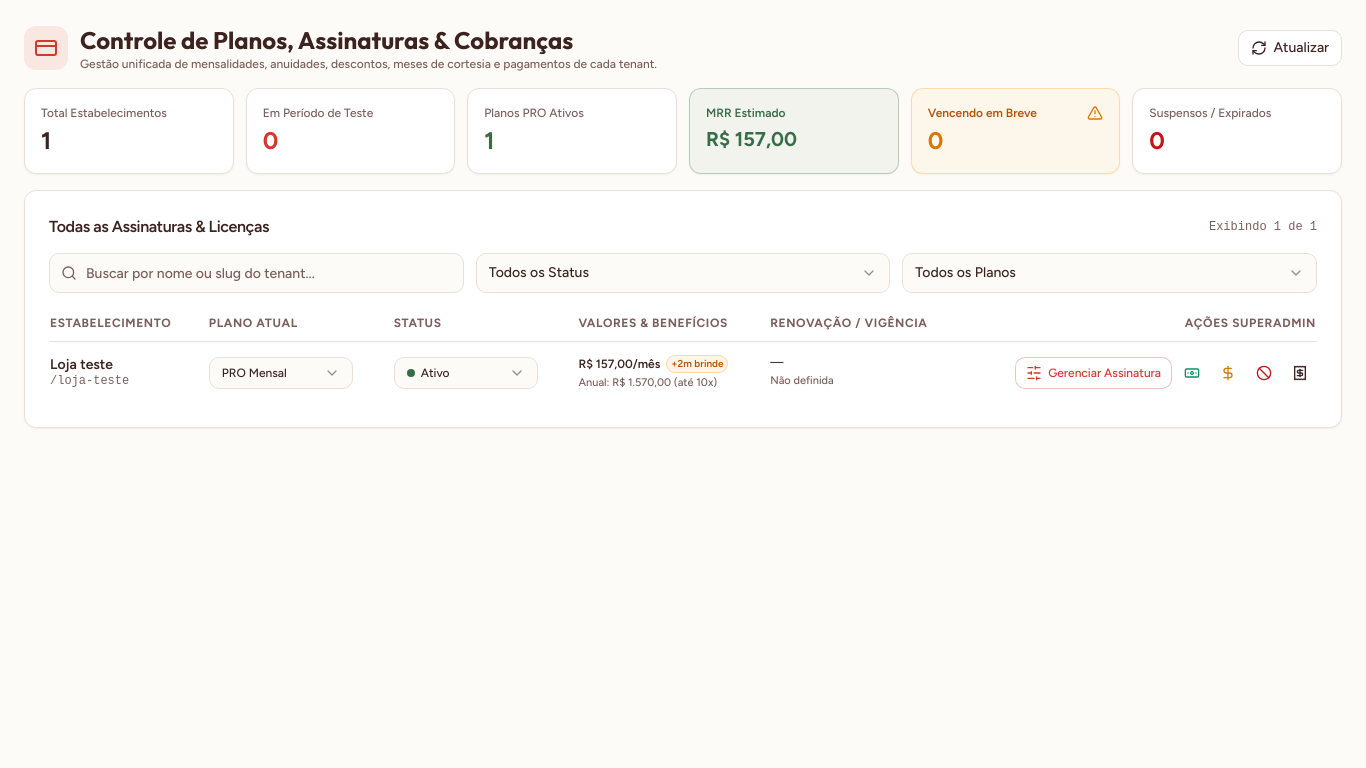
it: plan payment data › opens billing history with provider object data without throwing
The width and height of the screenshot is (1366, 768).
Expected: the text "Loja teste" is shown, [50,356,113,373]
Step 1. Click the button "Gerenciar Assinatura" → coordinates (1094, 372), box [1015,356,1172,388]
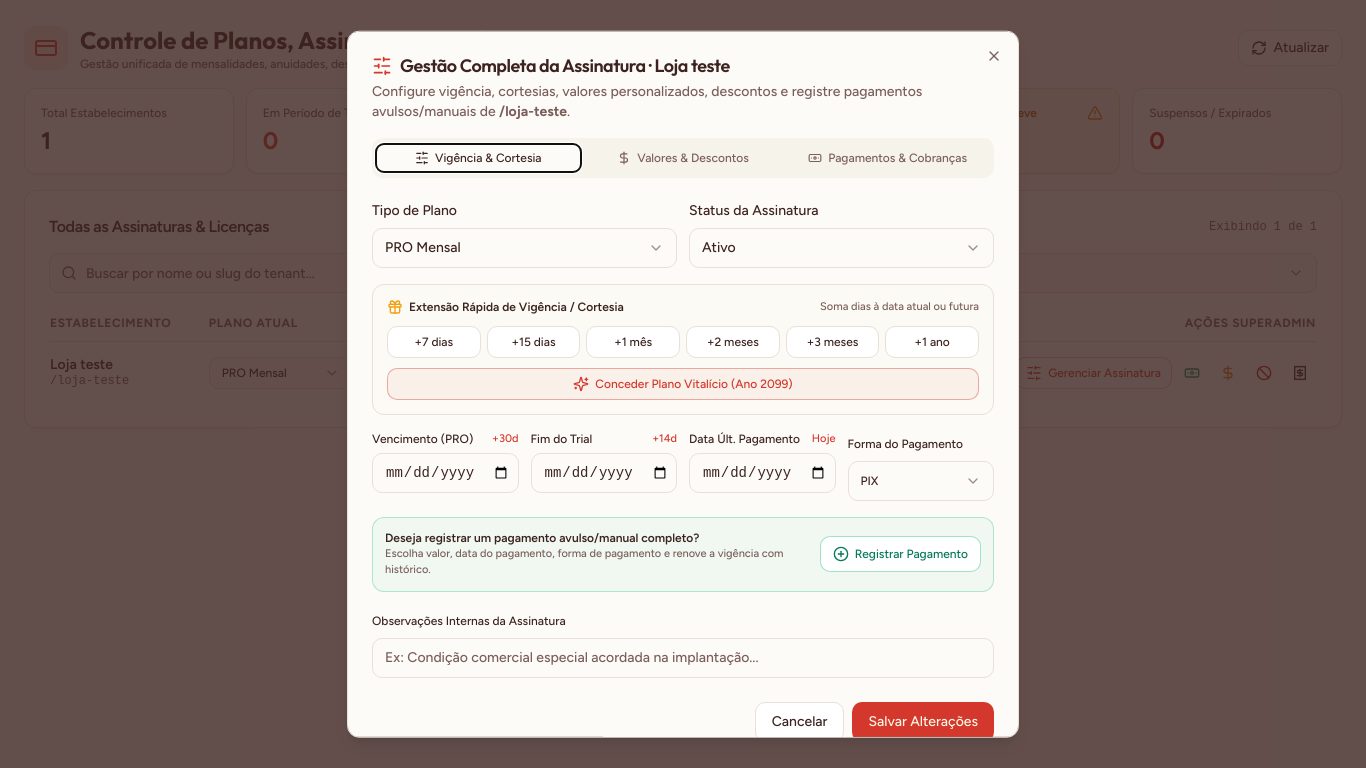
Step 2. Press the mouse on the tab "Pagamentos & Cobranças" → coordinates (888, 158), box [785,144,990,172]
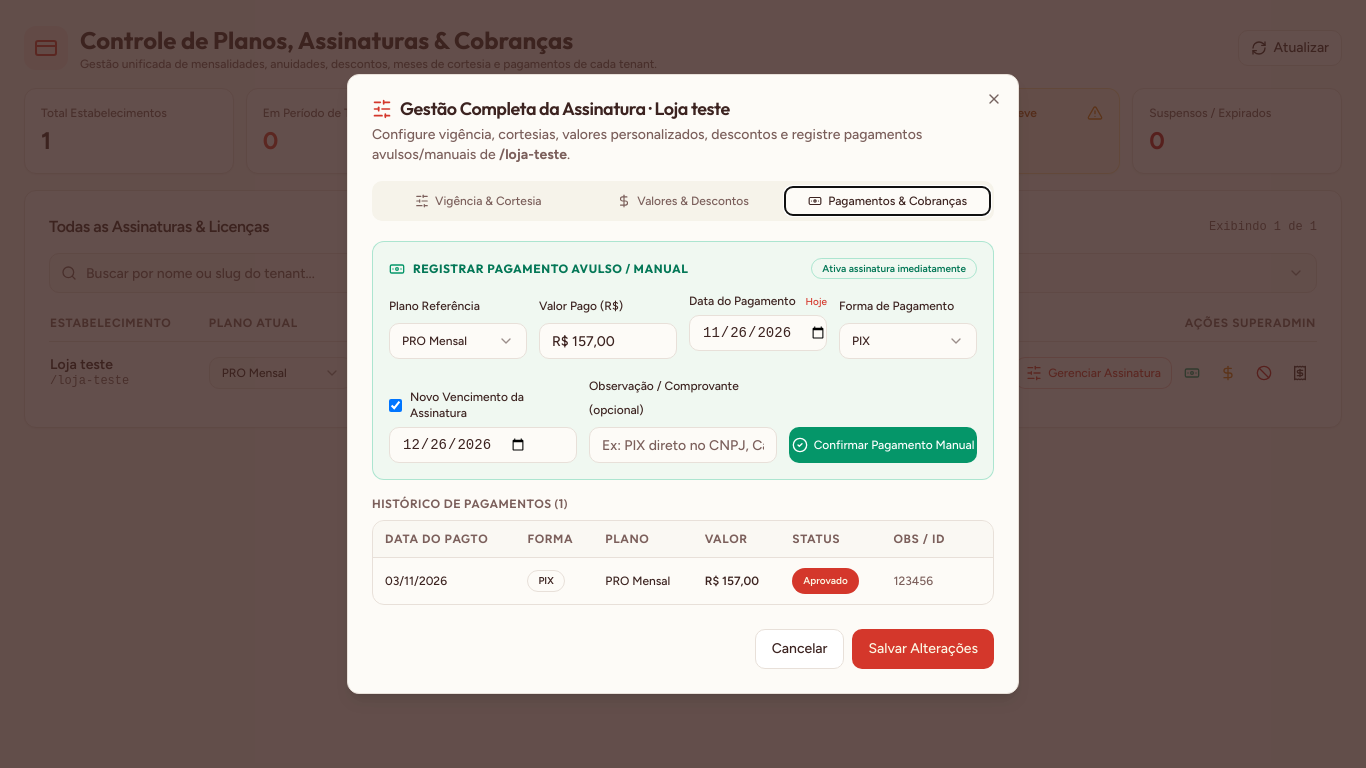
Expected: the text "PIX" next to "03/11/2026" is shown, [538,574,554,587]
Expected: the text "R$ 157,00" is shown, [693,558,780,604]
